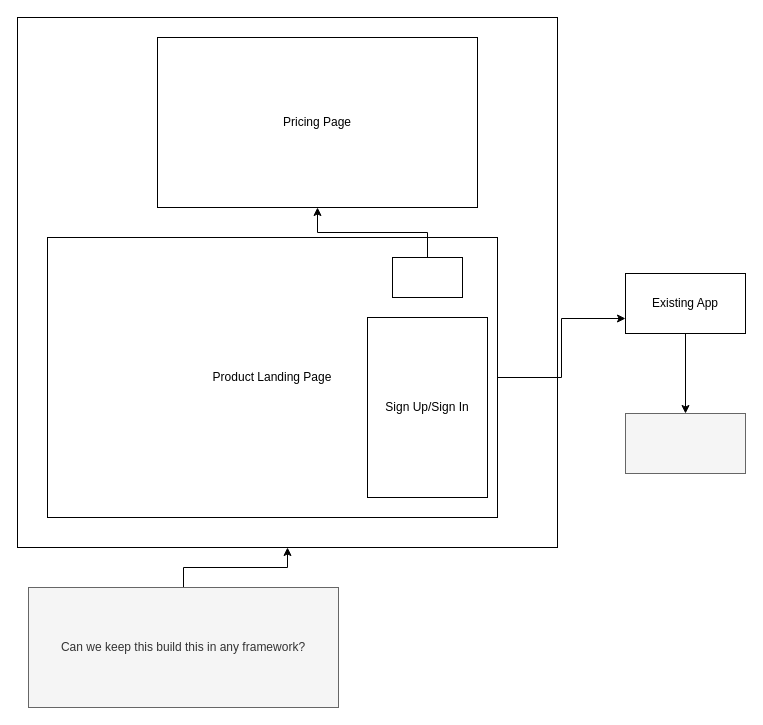
This 763x725 diagram has some shape labels left out. The centre of each missing label's shape, as x and y in pixels:
built in angular: (685,443)
Pricing: (427,277)
